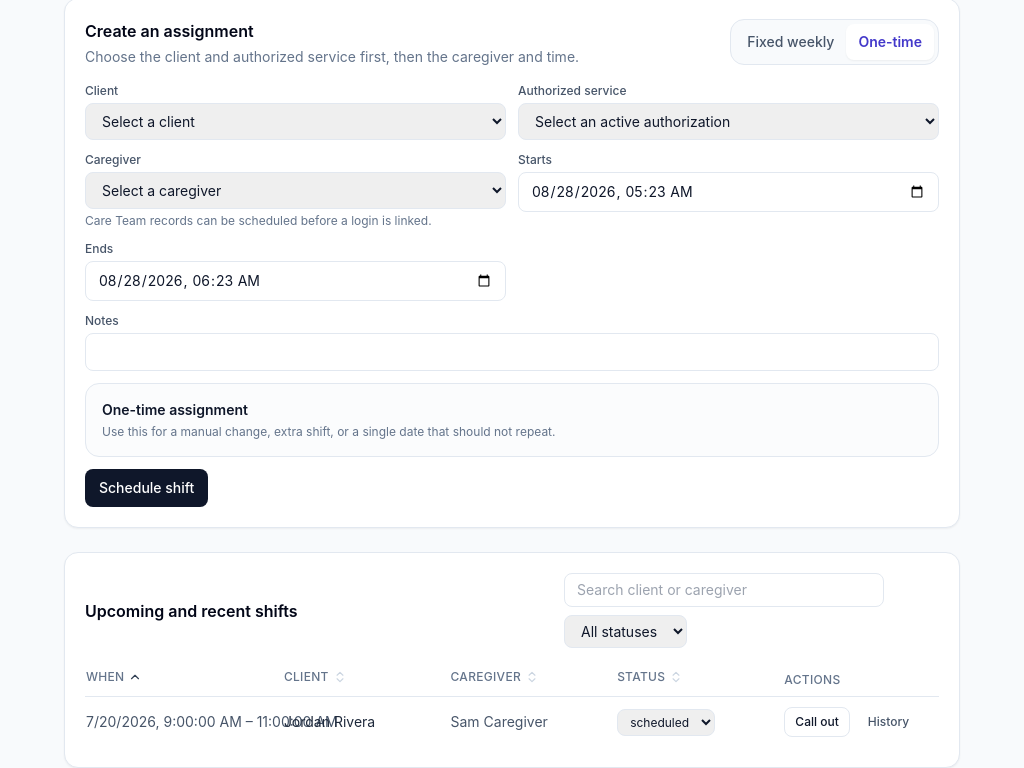
Test: SchedulePage › call-out and reassignment › shows coverage history when History is toggled
(page scrolled)
Expected: the text "Jordan Rivera" is shown, [283,696,450,747]
Click the button "History": coordinates (888, 722) [858,708,919,736]
(page scrolled)
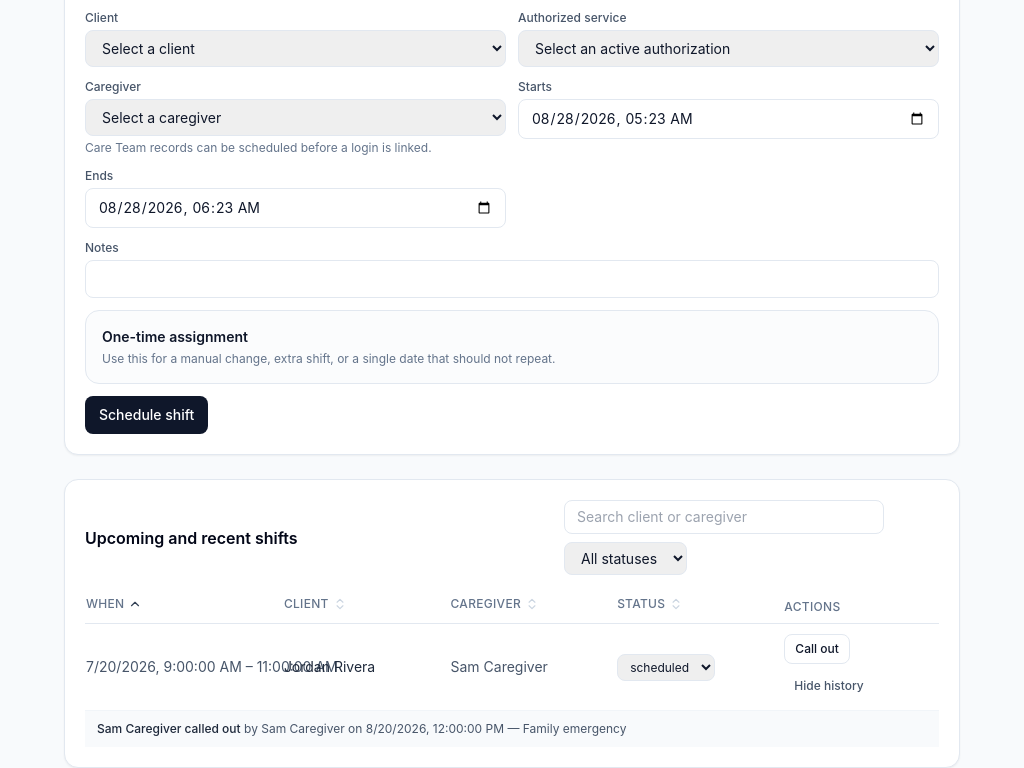
Expected: the text "Sam Caregiver called out" is shown, [97,721,241,736]
Expected: the list item "Family emergency" is shown, [523,721,626,736]
